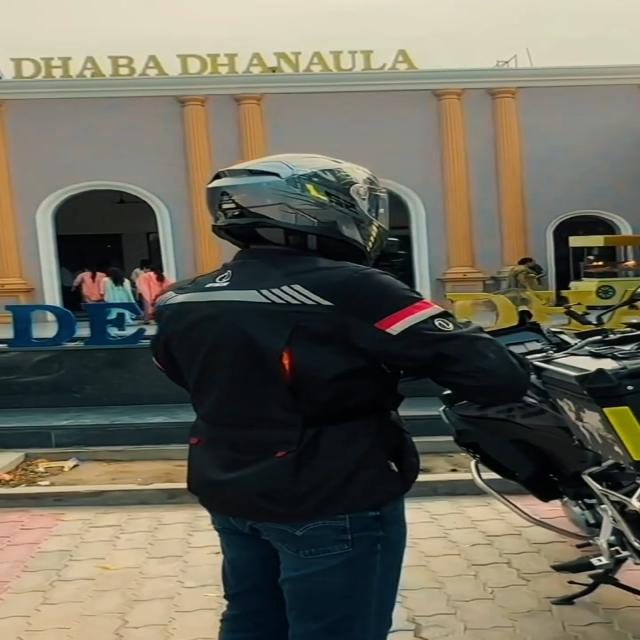Helmet_Wearer: (182, 152, 414, 265)
Jacket_Wearer: (149, 252, 515, 520)
Person: (147, 149, 522, 639)
